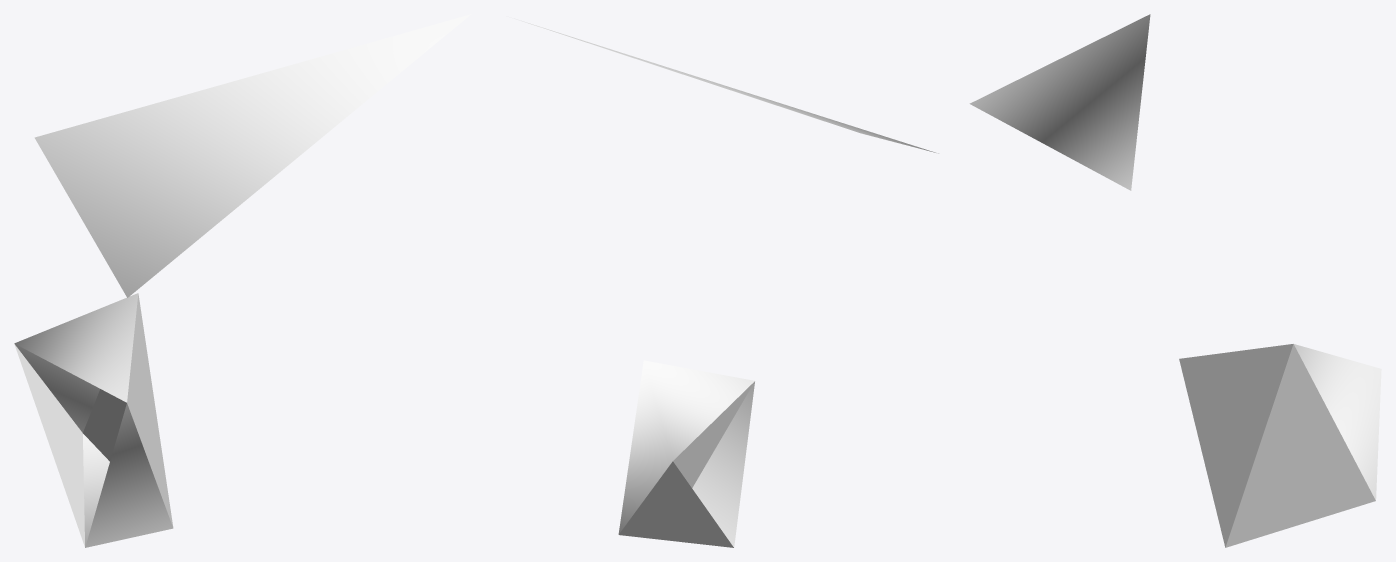
The picture shows the model from 3 angles, left to right: view 1: azimuth 30°, elevation 25°; view 2: azimuth 150°, elevation 25°; view 3: azimuth 270°, elevation 25°; orthographic projection. The views are drawn at different scales.
Size of the model in its own units: 0.3245 by 0.3597 by 0.2785.
Materials: 1 (1 with a texture image).
